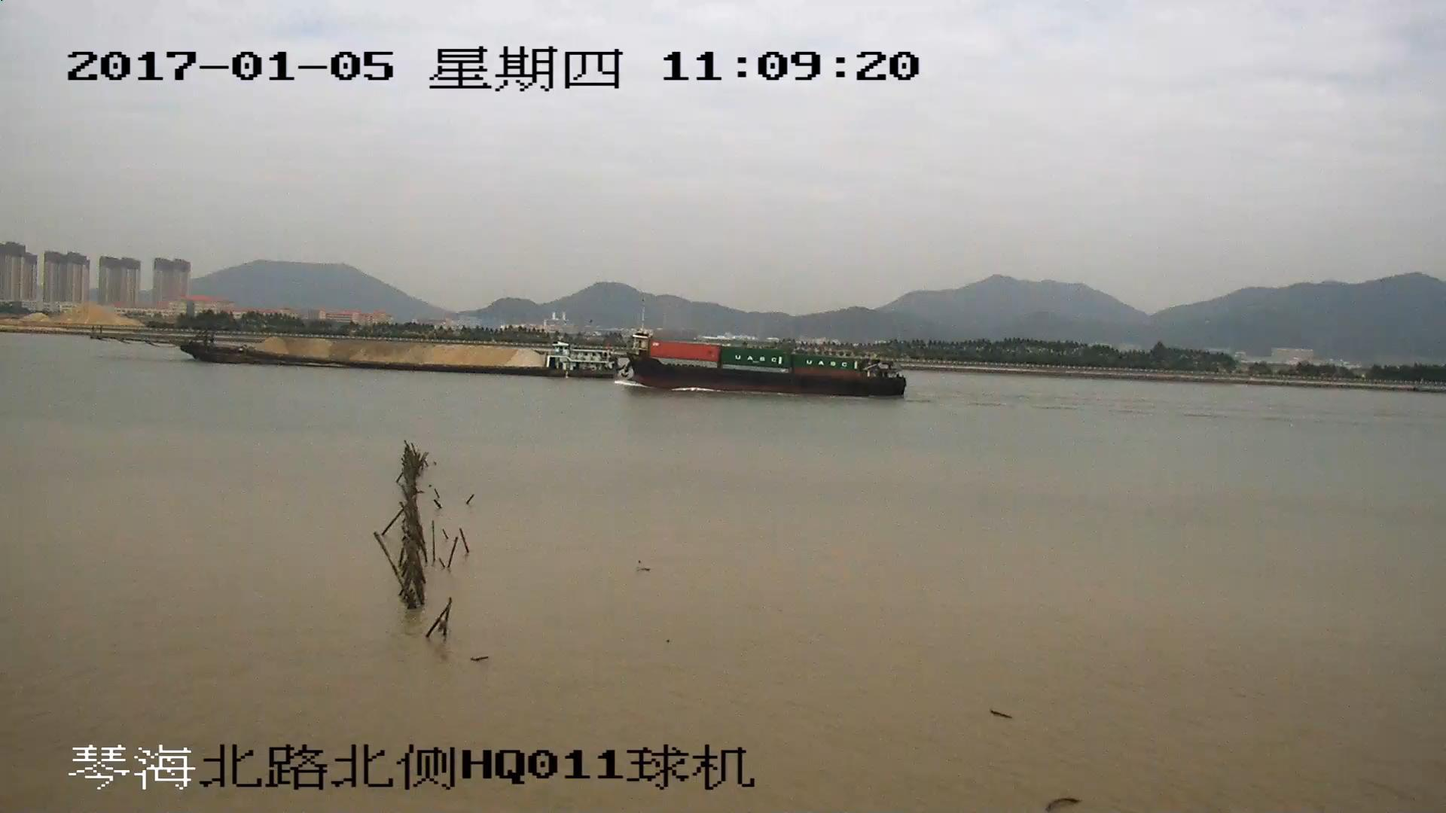container ship: (621, 326, 908, 396)
ore carrier: (111, 312, 618, 377)
